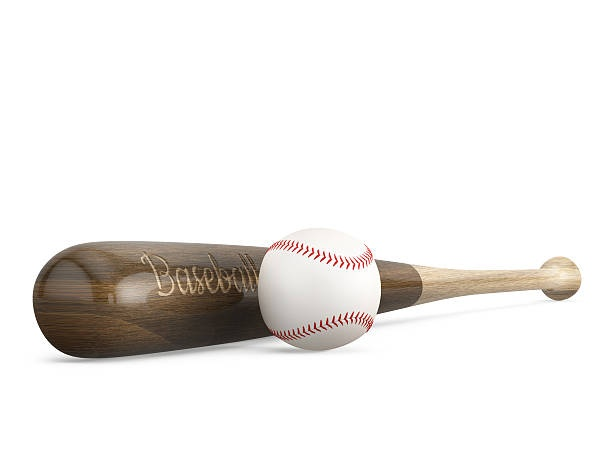bita: (35, 238, 588, 353)
